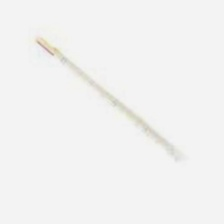drinking_straw: (27, 31, 203, 178)
